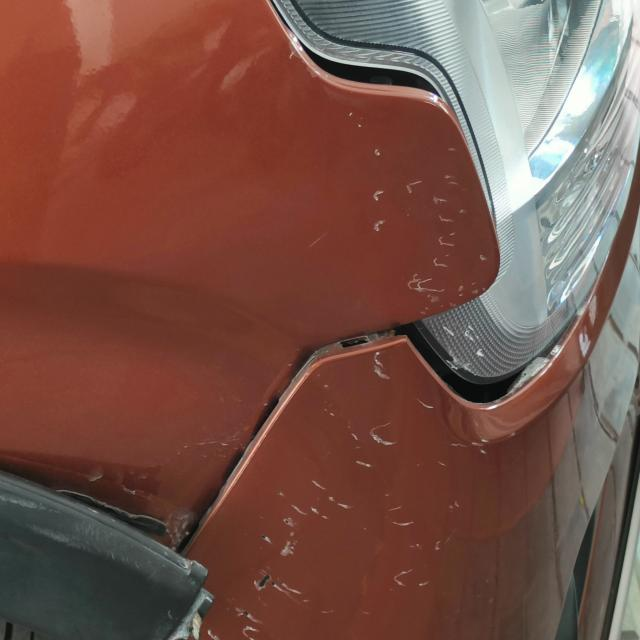scratch: (375, 480, 471, 586), (278, 474, 352, 554), (428, 427, 524, 474), (401, 269, 503, 312), (429, 193, 478, 274), (364, 417, 396, 454), (411, 386, 442, 424), (366, 346, 397, 384), (232, 602, 261, 638), (440, 169, 464, 195), (304, 225, 328, 251), (316, 396, 340, 422), (340, 423, 364, 448), (351, 453, 375, 478), (253, 524, 274, 552), (404, 174, 424, 201), (370, 180, 390, 207), (369, 214, 388, 242), (443, 135, 462, 163), (369, 137, 388, 165), (254, 570, 272, 598)
